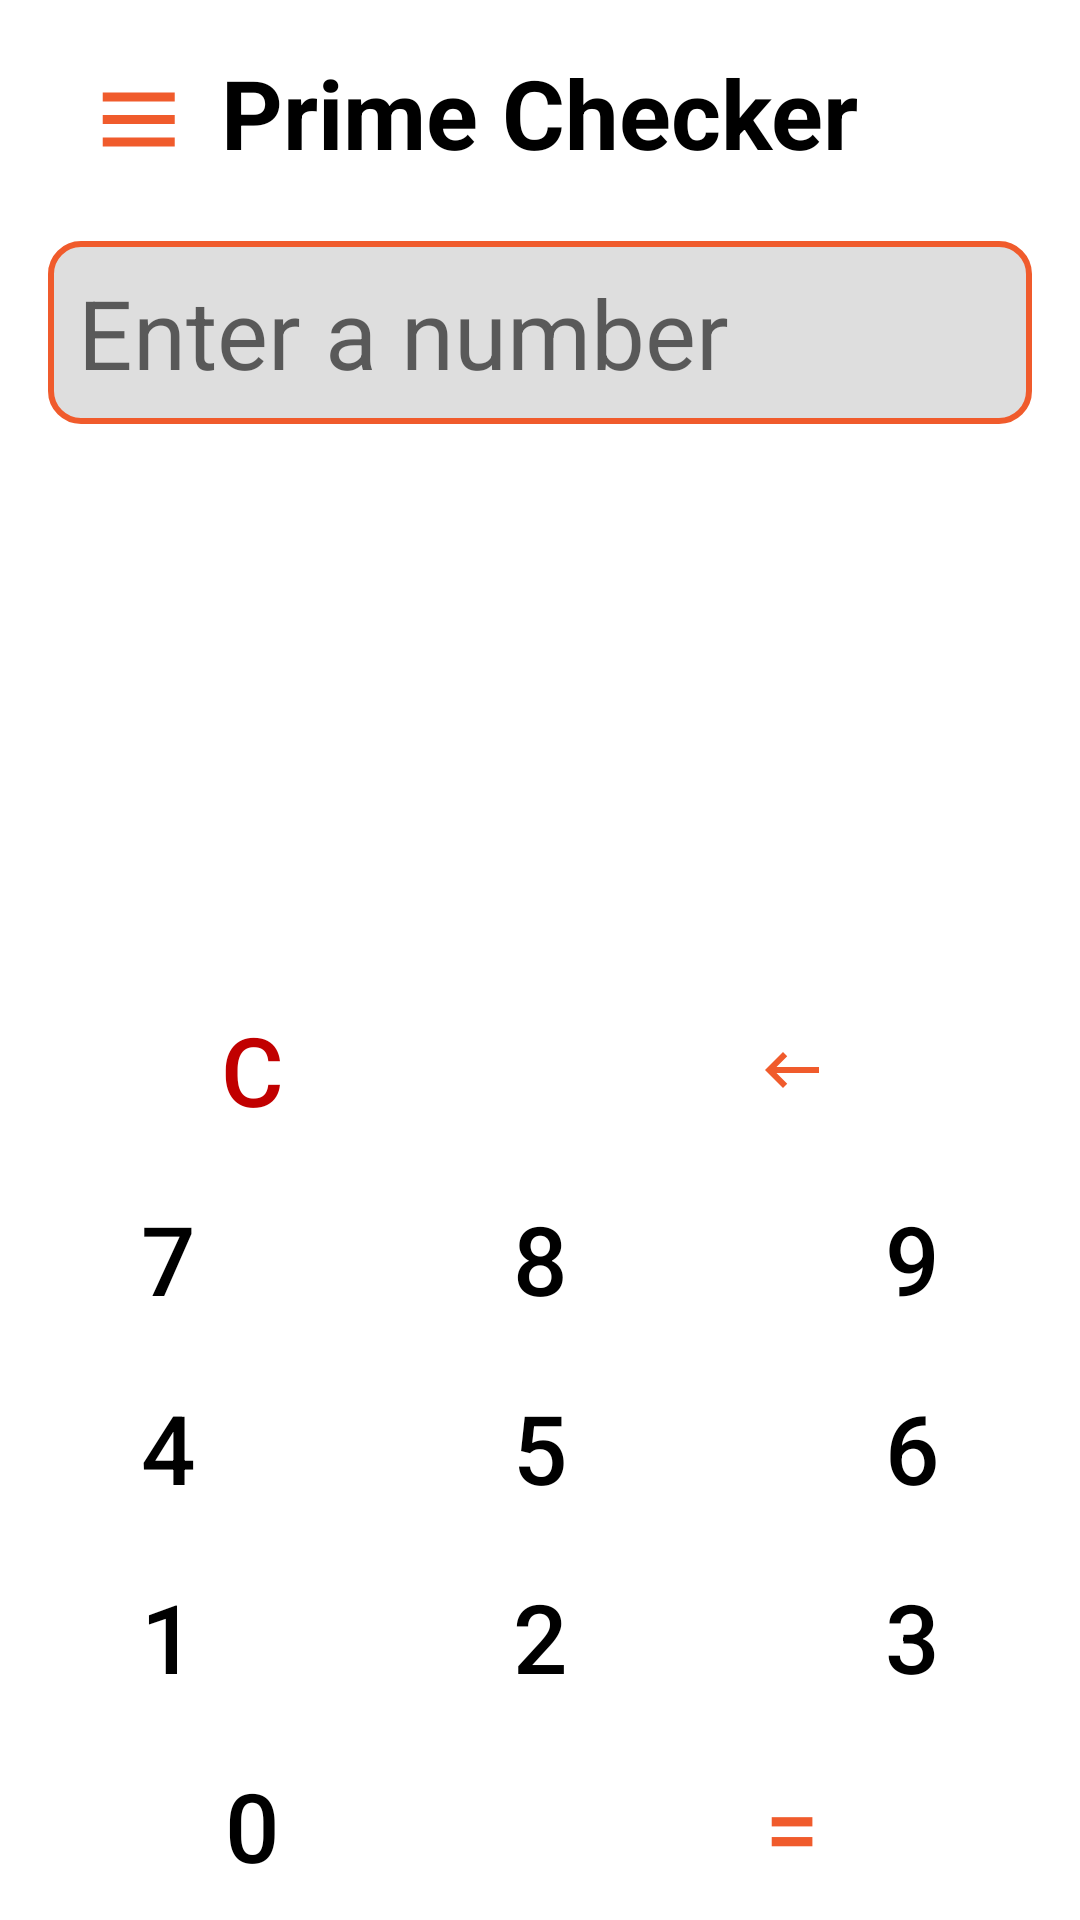

Point at icon controls on the screen. Image size 1080w x 1920h, points as (x,y).
backspace: (792,1070)
menu: (138,119)
